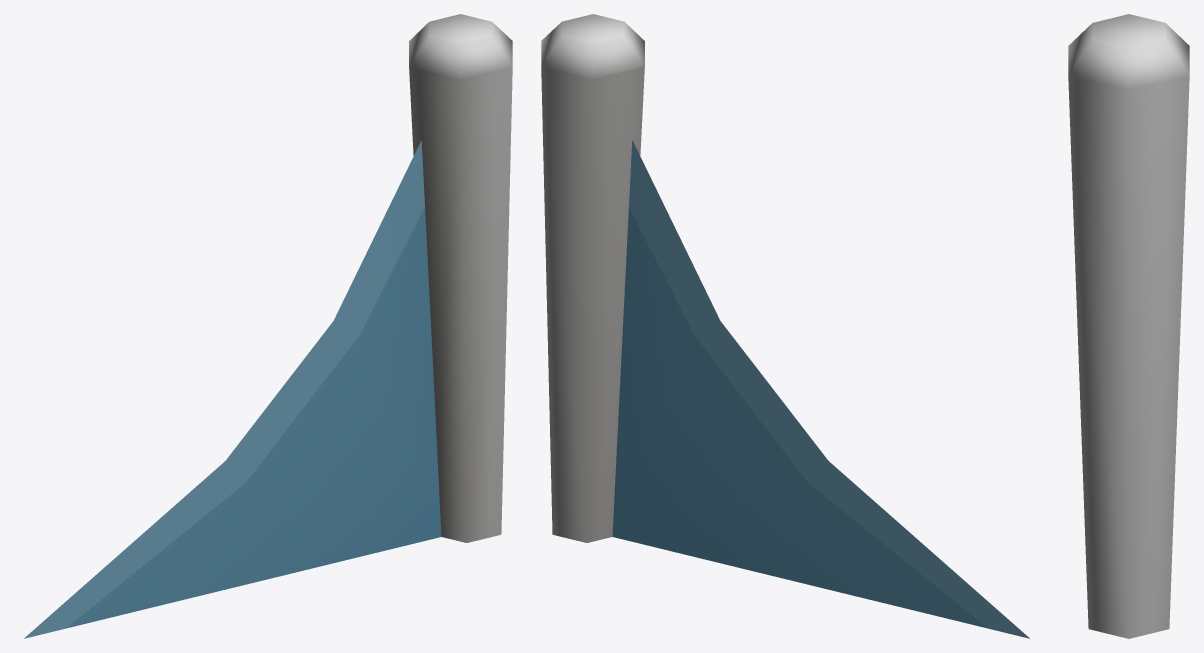
The model's file is SlalomFlagBlue.glb.
3 renders of one model, left to right at view 1: azimuth 30°, elevation 25°; view 2: azimuth 150°, elevation 25°; view 3: azimuth 270°, elevation 25°, orthographic. The views are drawn at different scales.
Parts seen in each view (by area): view 1: SlalomFlagBlue; view 2: SlalomFlagBlue; view 3: SlalomFlagBlue.
Part boxes in pixels (x1=…): SlalomFlagBlue: x1=24, y1=14, x2=512, y2=638; SlalomFlagBlue: x1=541, y1=14, x2=1029, y2=638; SlalomFlagBlue: x1=1068, y1=14, x2=1189, y2=638.
Size of the model in its own units: 0.7169 by 0.6914 by 0.1303.
